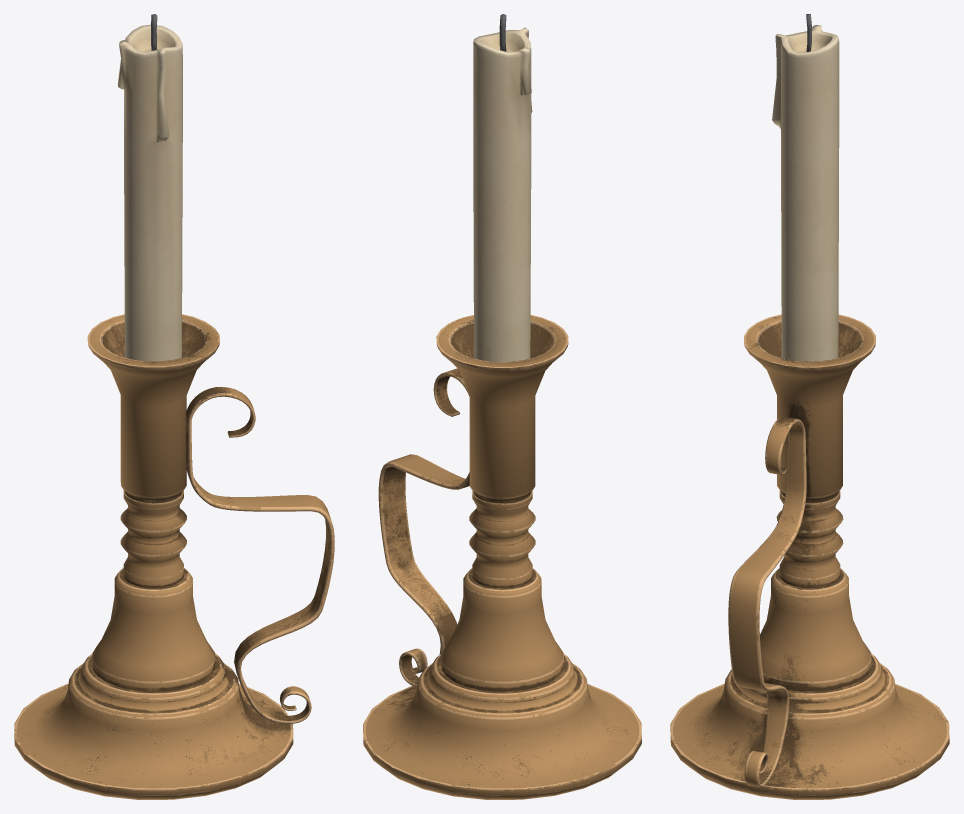
File: stick.glb
3 views of the same model, side by side, from view 1: azimuth 30°, elevation 25°; view 2: azimuth 150°, elevation 25°; view 3: azimuth 270°, elevation 25° (orthographic).
Visible parts, largest first — view 1: CandleStand_low, Candle_low, CandleHandle_low; view 2: CandleStand_low, Candle_low, CandleHandle_low; view 3: CandleStand_low, Candle_low, CandleHandle_low.
Boxes of the visible parts, x1,y1,x2,y2 form: CandleStand_low: [14, 314, 293, 799]; Candle_low: [117, 24, 182, 361]; CandleHandle_low: [186, 387, 334, 723]; CandleStand_low: [363, 315, 641, 799]; Candle_low: [473, 27, 532, 361]; CandleHandle_low: [378, 368, 469, 687]; CandleStand_low: [670, 314, 949, 799]; Candle_low: [772, 25, 839, 361]; CandleHandle_low: [728, 416, 806, 787].
Bounding box in the file's own units: 0.2012 × 0.5177 × 0.1796.
Materials: 1 (1 with a texture image).
